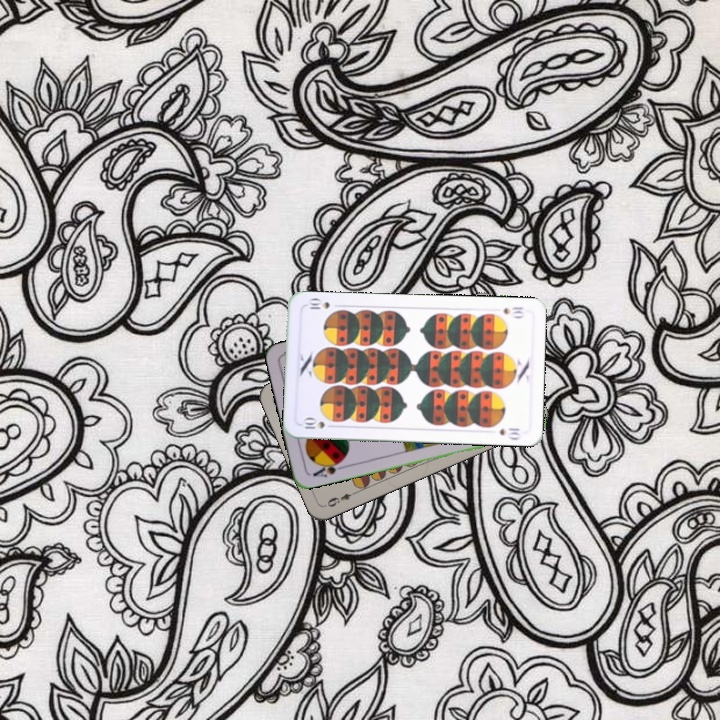E9: (321, 487, 360, 510)
S10: (299, 415, 338, 431), (499, 302, 527, 320)
SA: (309, 456, 347, 480)
